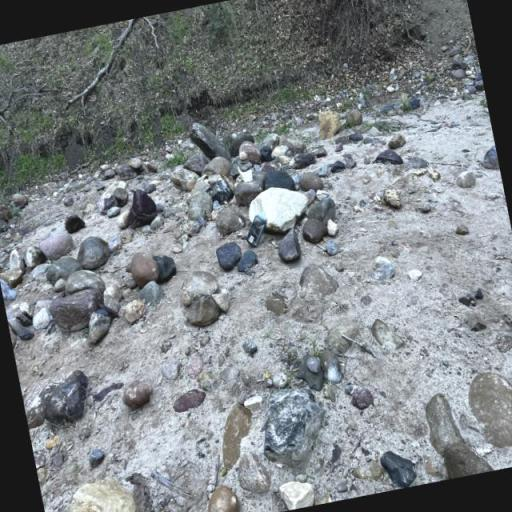bottle: (242, 210, 272, 248)
